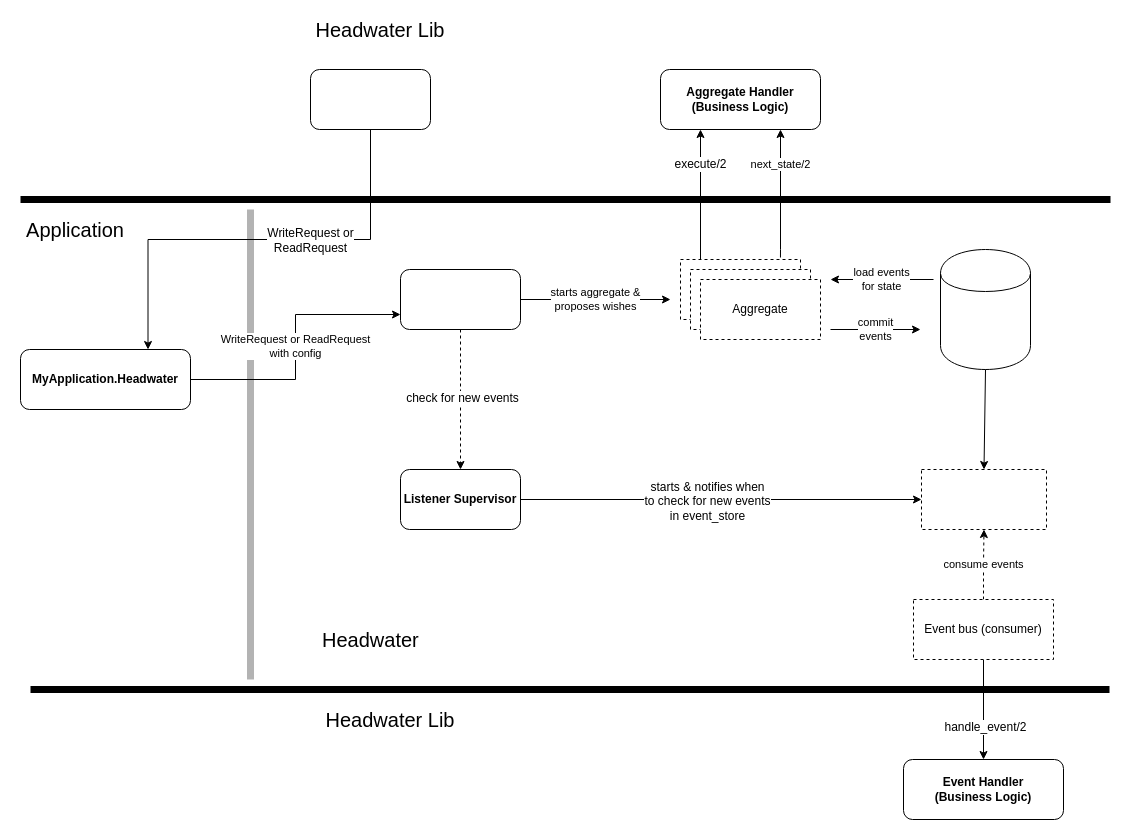
This 1132x837 diagram has some shape labels left out. Each missing label, with the centre of its shape:
"Directory" goes at (460,299).
"Event bus (producer)" goes at (983,499).
"Event Store" goes at (985,309).
"OpFactory ()" goes at (370,99).
